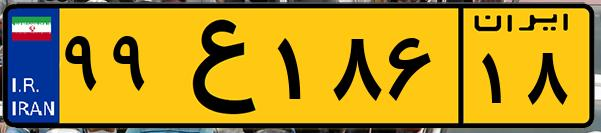1: (270, 28, 330, 110), (475, 38, 525, 113)
6: (385, 28, 445, 110)
8: (330, 28, 385, 110), (525, 38, 570, 115)
9: (57, 26, 110, 100), (110, 28, 158, 98)
ع: (158, 12, 270, 120)
